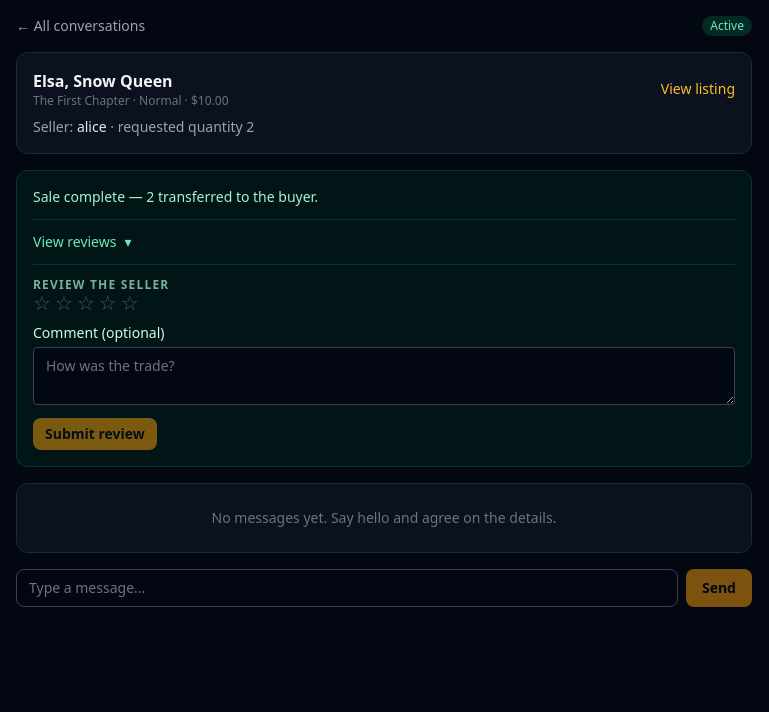
Test case: MarketplaceChatThreadPage › toggles the review panel inline without navigation (AC-REV-2.2)
The image size is (769, 712).
Click the button "View reviews ▾". click: (82, 242)
box: x1=33 y1=232 x2=132 y2=252
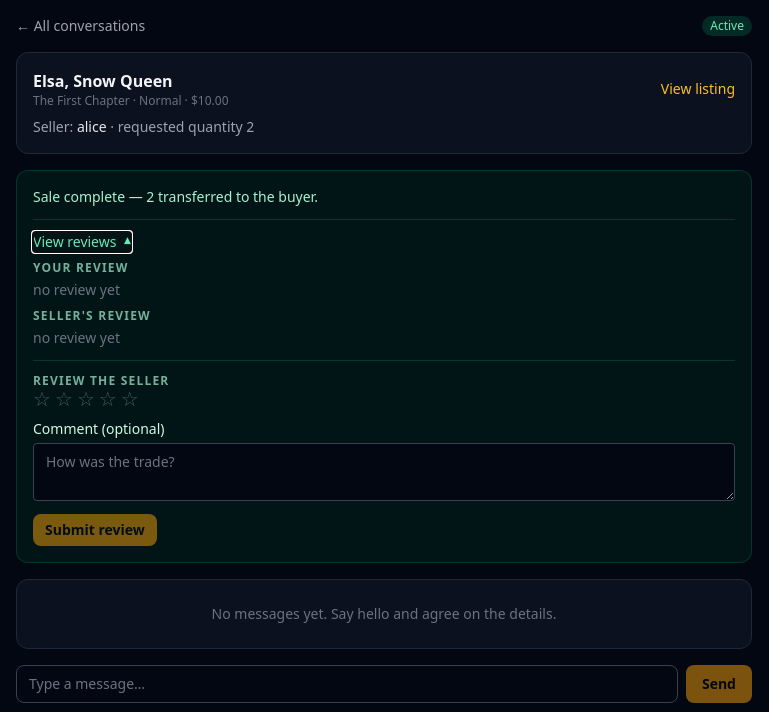
expect the button "View reviews ▾" is expanded: met
Click the button "View reviews ▾". click: (82, 242)
box: x1=33 y1=232 x2=132 y2=252
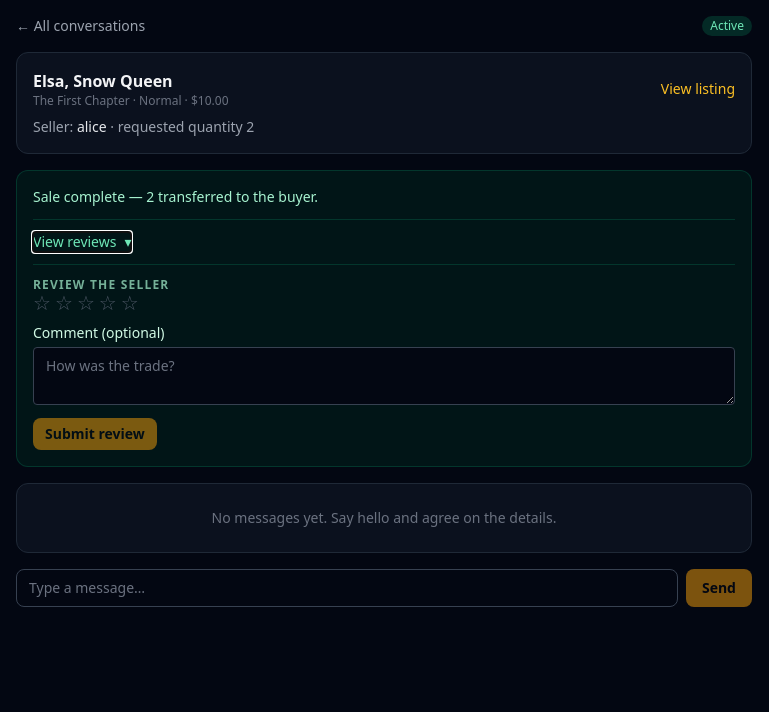
expect the button "View reviews ▾" is collapsed: met, box x1=33 y1=232 x2=132 y2=252
